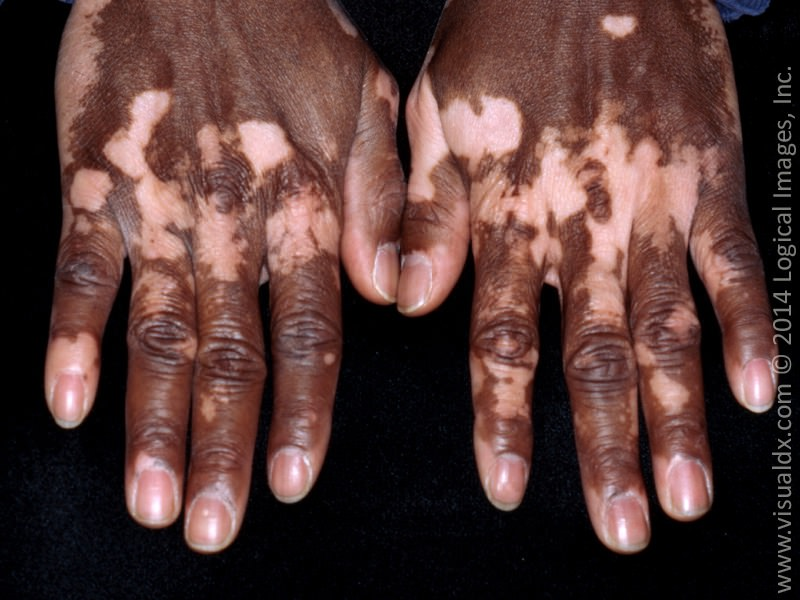vitiligo: (111, 77, 698, 435)
